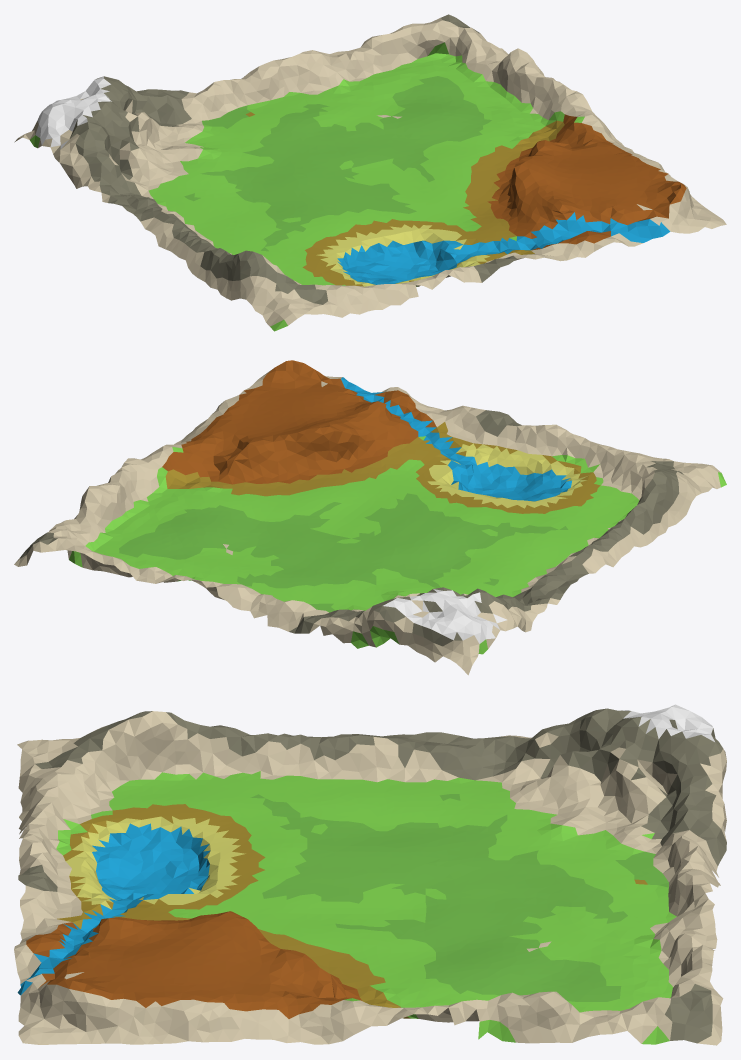
The model's file is First Terrain New.fbx.
3 renders of one model, top to bottom at view 1: azimuth 30°, elevation 25°; view 2: azimuth 150°, elevation 25°; view 3: azimuth 270°, elevation 25°, orthographic. The views are drawn at different scales.
Visible parts, largest first — view 1: Plane; view 2: Plane; view 3: Plane.
Boxes of the visible parts, x1,y1,x2,y2 form: Plane: [14, 14, 726, 331]; Plane: [14, 360, 726, 675]; Plane: [14, 704, 726, 1045].
Bounding box in the file's own units: 1822 × 262 × 1841.
